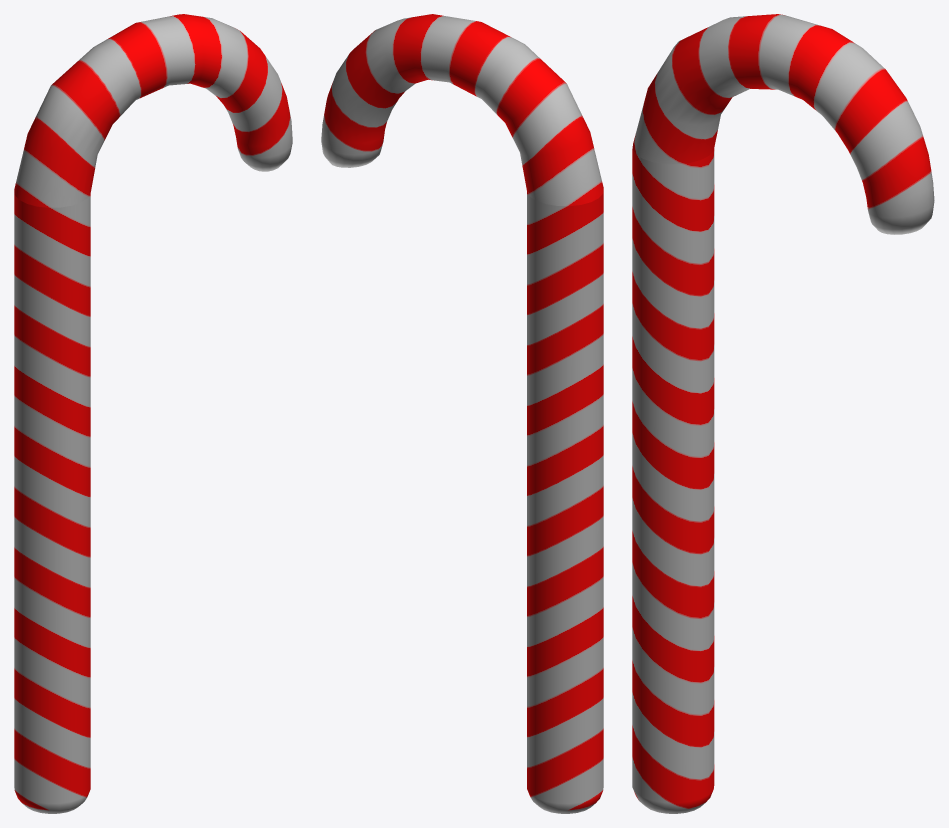
Rendered from sugar_cane.fbx.
The picture shows the model from 3 angles, left to right: view 1: azimuth 30°, elevation 25°; view 2: azimuth 150°, elevation 25°; view 3: azimuth 330°, elevation 25°; orthographic projection. The views are drawn at different scales.
Visible parts, largest first — view 1: pCylinder1; view 2: pCylinder1; view 3: pCylinder1.
Part boxes in pixels (bbox=[...]): pCylinder1: bbox=[14, 14, 292, 813]; pCylinder1: bbox=[321, 14, 603, 813]; pCylinder1: bbox=[632, 14, 934, 813].
Bounding box in the file's own units: 672 × 1794 × 165.
Materials: 1 (1 with a texture image).
